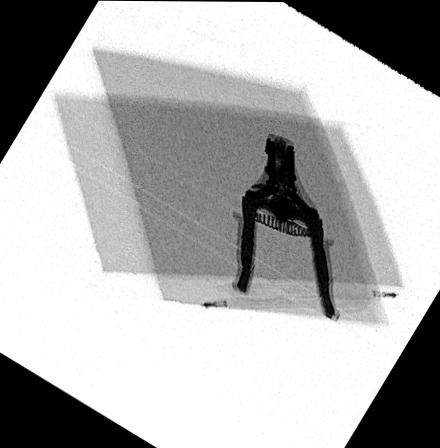Pliers: (231, 139, 339, 323)
